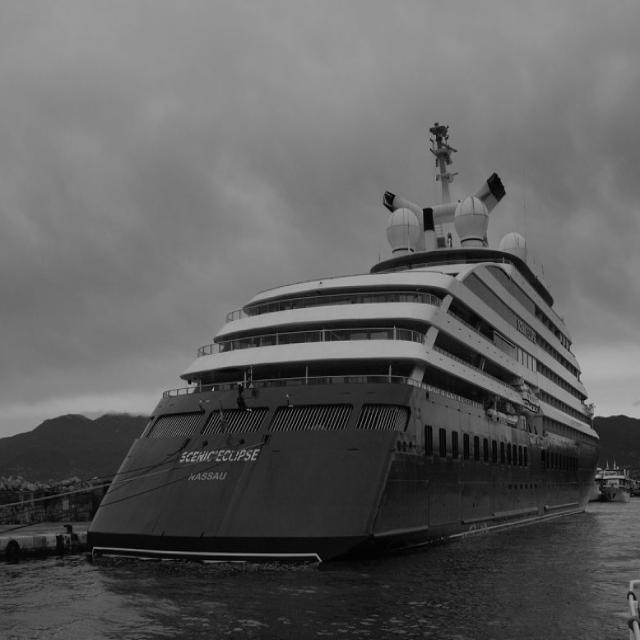cruises: (82, 120, 607, 576)
